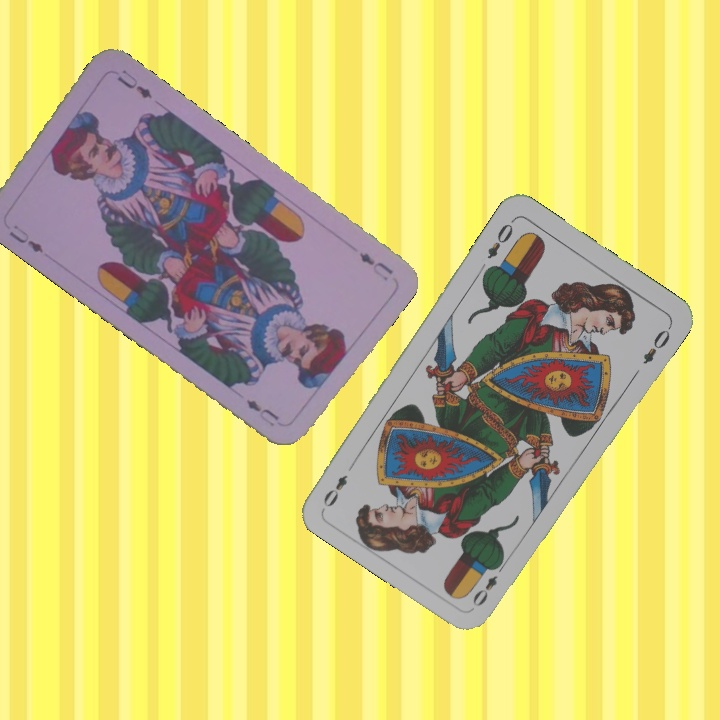EO: (468, 558, 509, 610), (483, 215, 518, 262)
EU: (355, 248, 396, 284), (4, 223, 46, 256)
